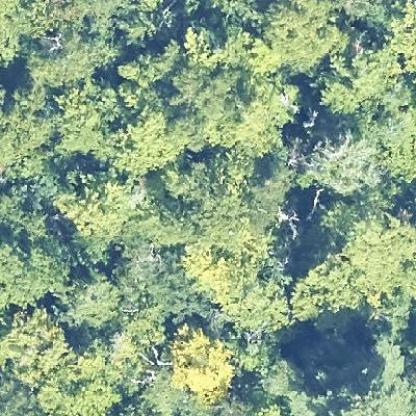tree-top: (57, 168, 150, 248), (24, 26, 123, 90), (258, 1, 336, 77), (170, 320, 238, 406), (298, 126, 380, 193), (0, 234, 71, 307), (7, 306, 69, 380), (55, 269, 121, 331)
